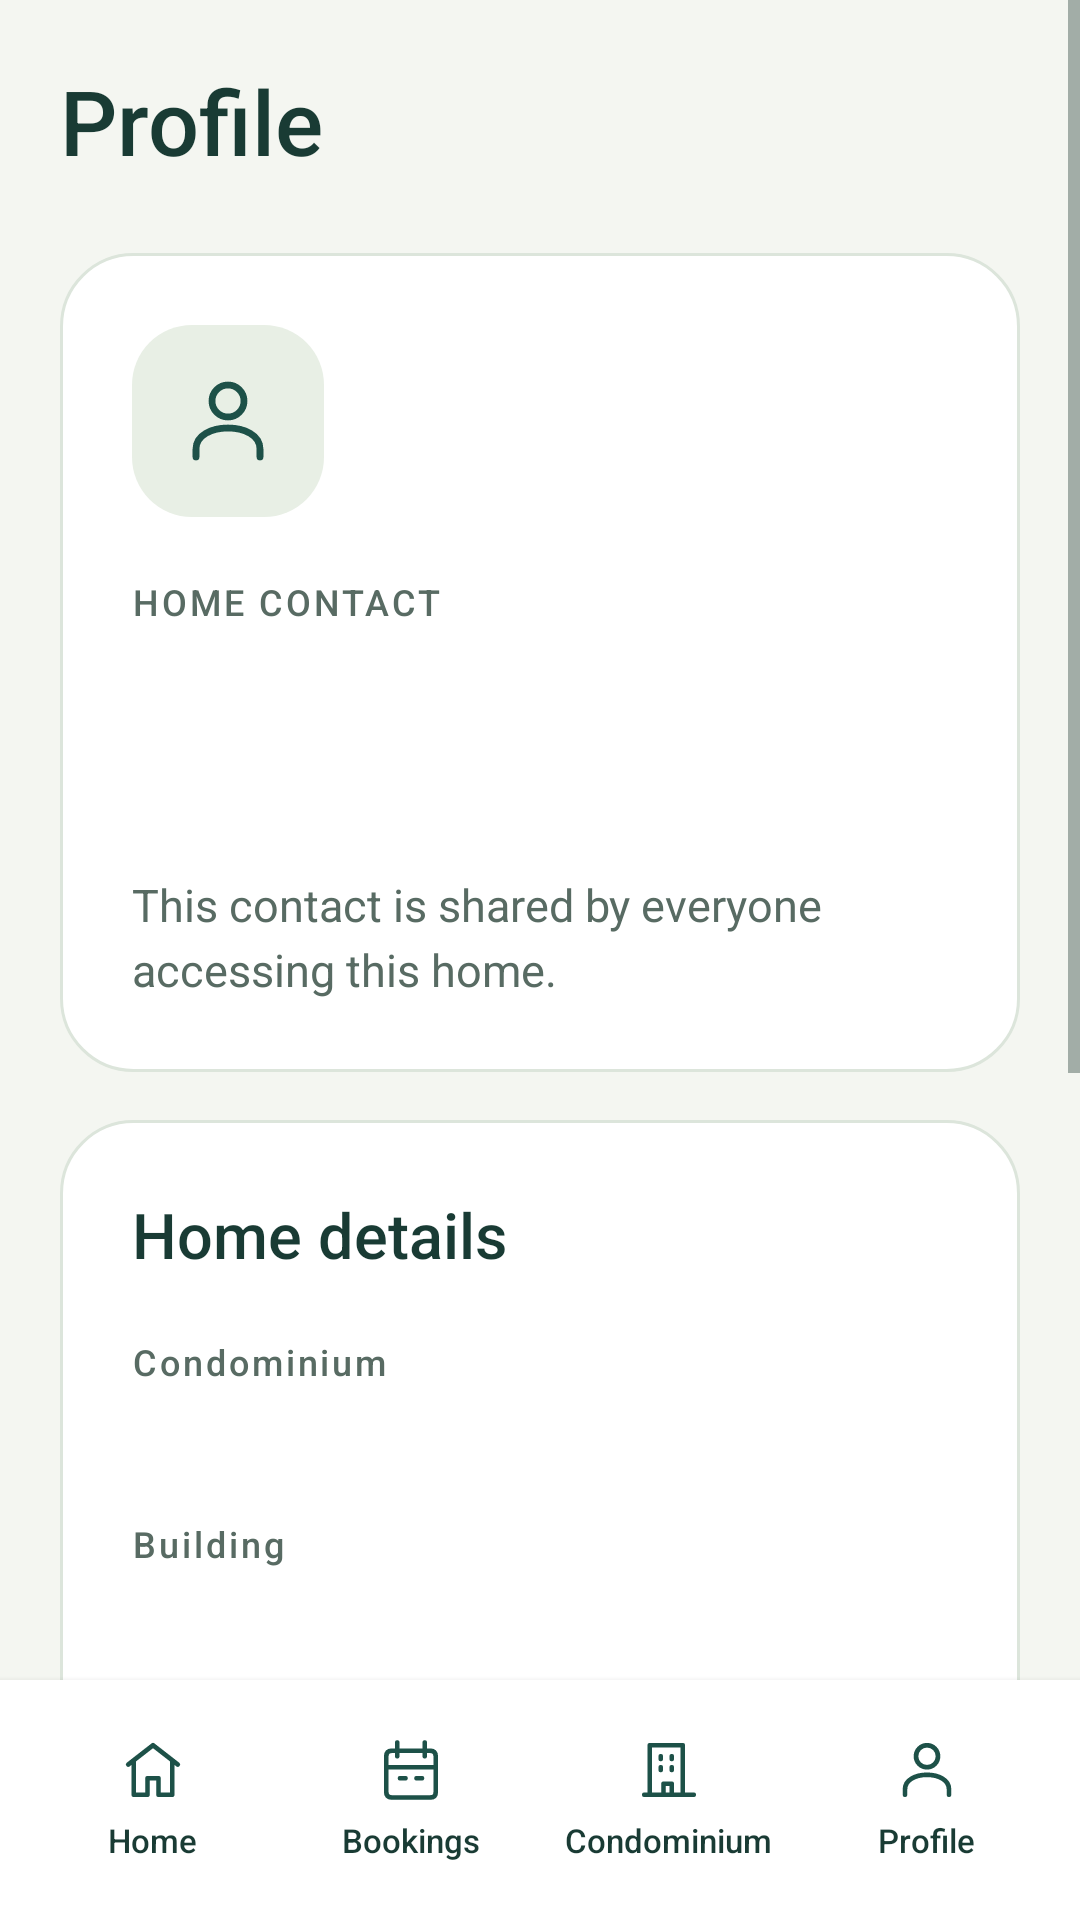

Named icons in this screenshot (1080 × 1920) and their bounding boxes, bbox=(x1, y1, x2, y2):
building: bbox=(642, 1743, 696, 1797)
calendar: bbox=(384, 1740, 438, 1800)
person: bbox=(132, 325, 324, 517), bbox=(902, 1743, 952, 1797)
